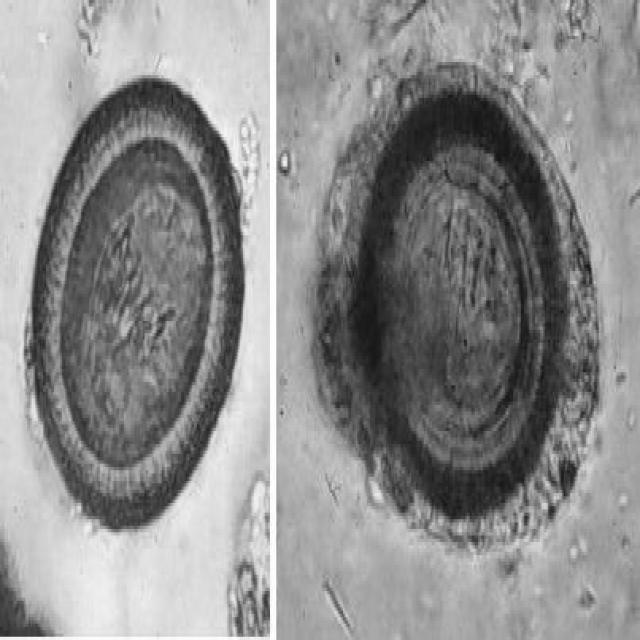Taenia Sp: (24, 64, 252, 544), (350, 87, 562, 514)
